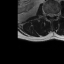CCS_stenosis: (50, 10, 52, 19)
LFS_normal: (54, 10, 57, 18)
LLS_normal: (52, 11, 54, 18)
RFS_normal: (45, 10, 47, 17)
RLS_normal: (47, 11, 50, 18)
